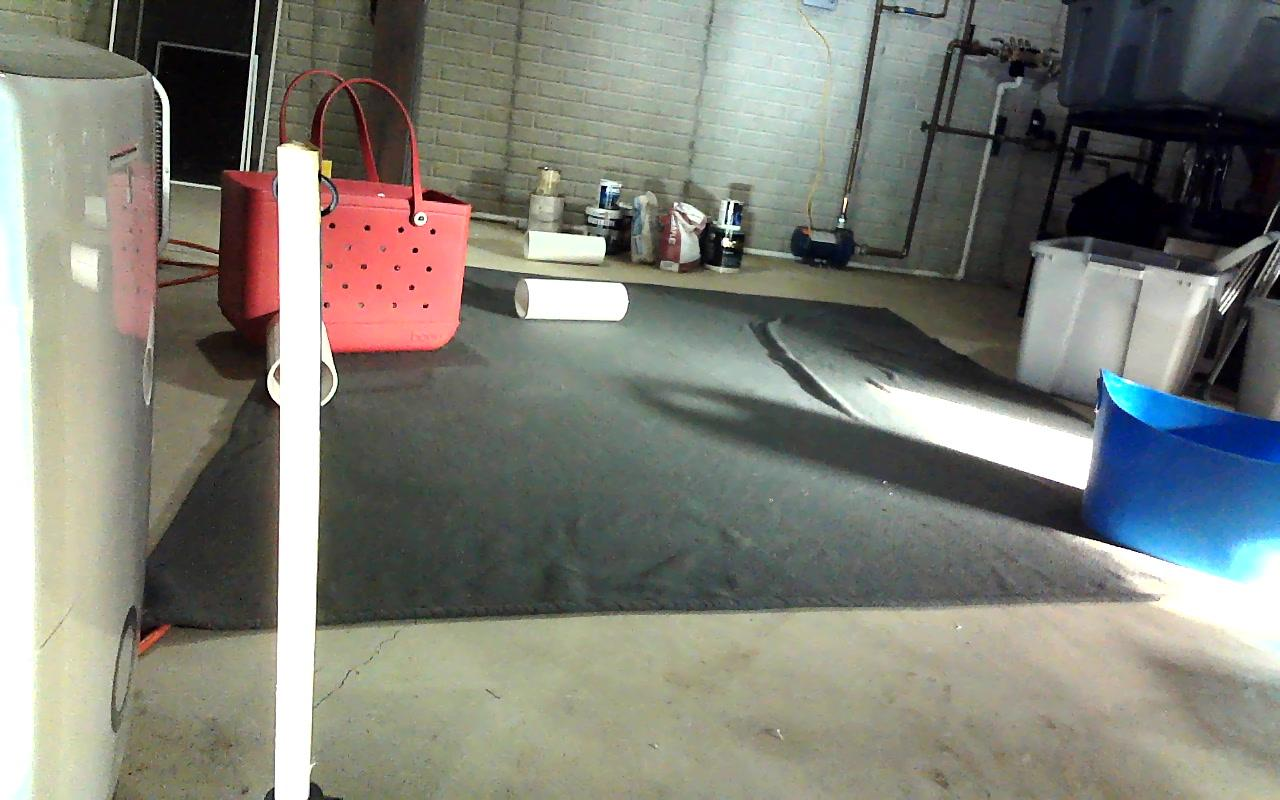coral: (268, 308, 338, 408), (514, 278, 627, 322), (524, 231, 607, 267)
